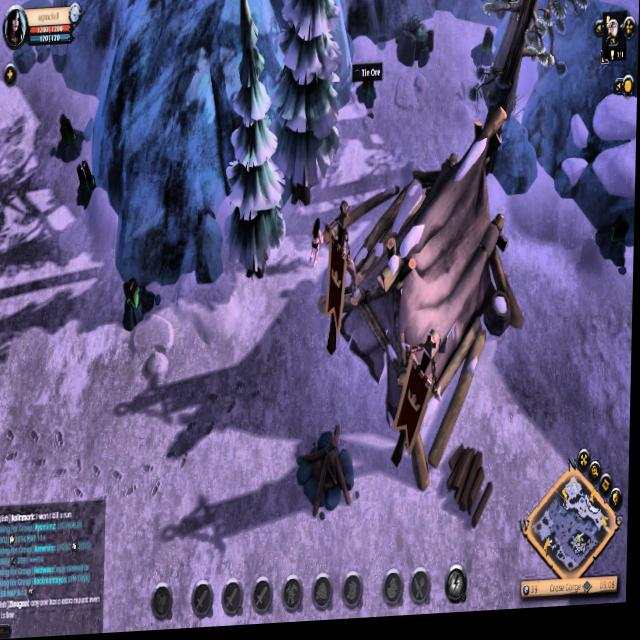sandstone: (389, 12, 441, 82)
tin_ore: (114, 267, 170, 337), (50, 108, 90, 170), (594, 218, 636, 270), (72, 157, 105, 216), (470, 28, 499, 80)
